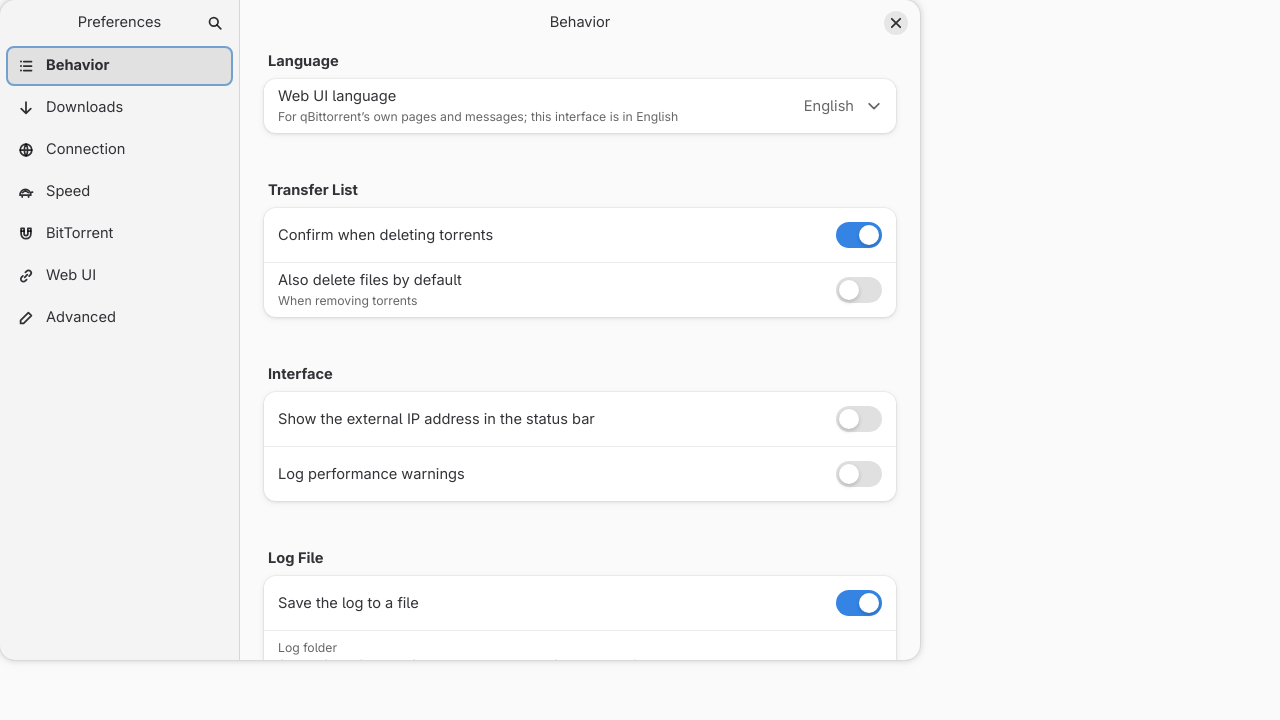
it: PreferencesDialog › searches every page, groups results by page, and says when nothing matches
Check: the element "Transfer List" is shown, box [264, 181, 896, 317]
Step 1. Click the button named "Search Preferences" → (215, 23), box [198, 6, 232, 40]
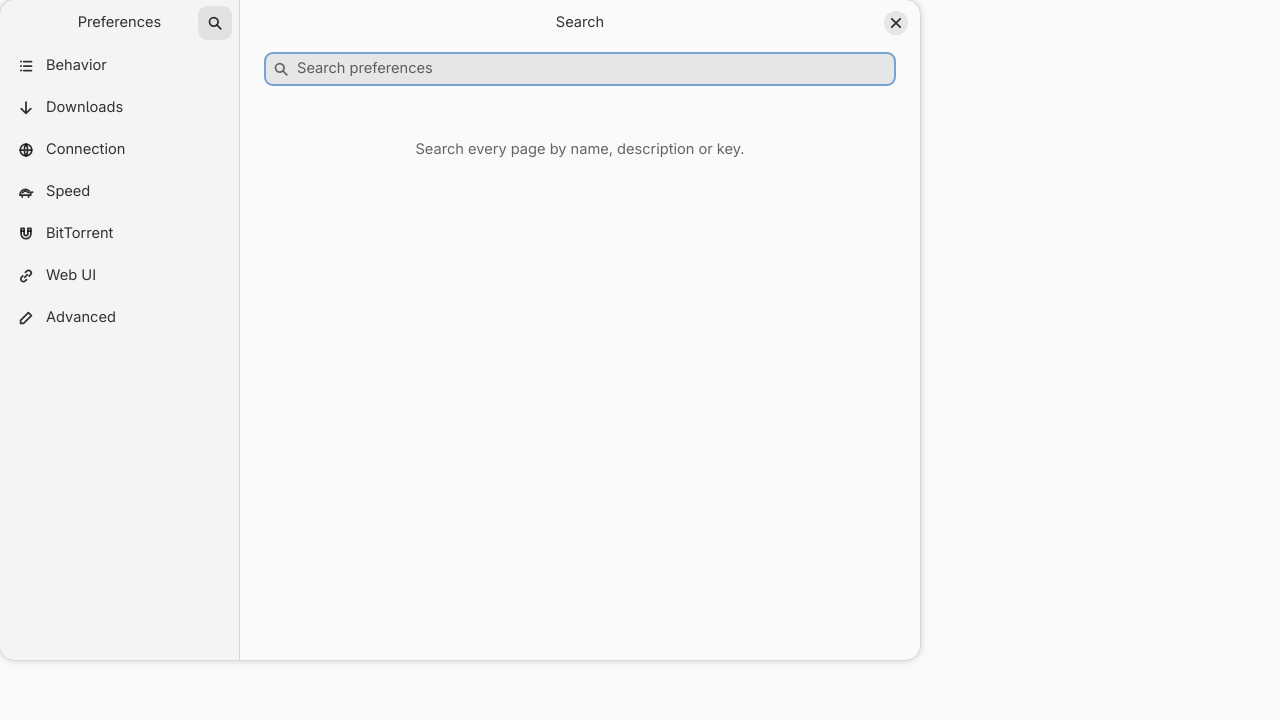
Step 2. Type "port forward" into the search field labelled "Search preferences" → (591, 69), box [295, 58, 887, 80]
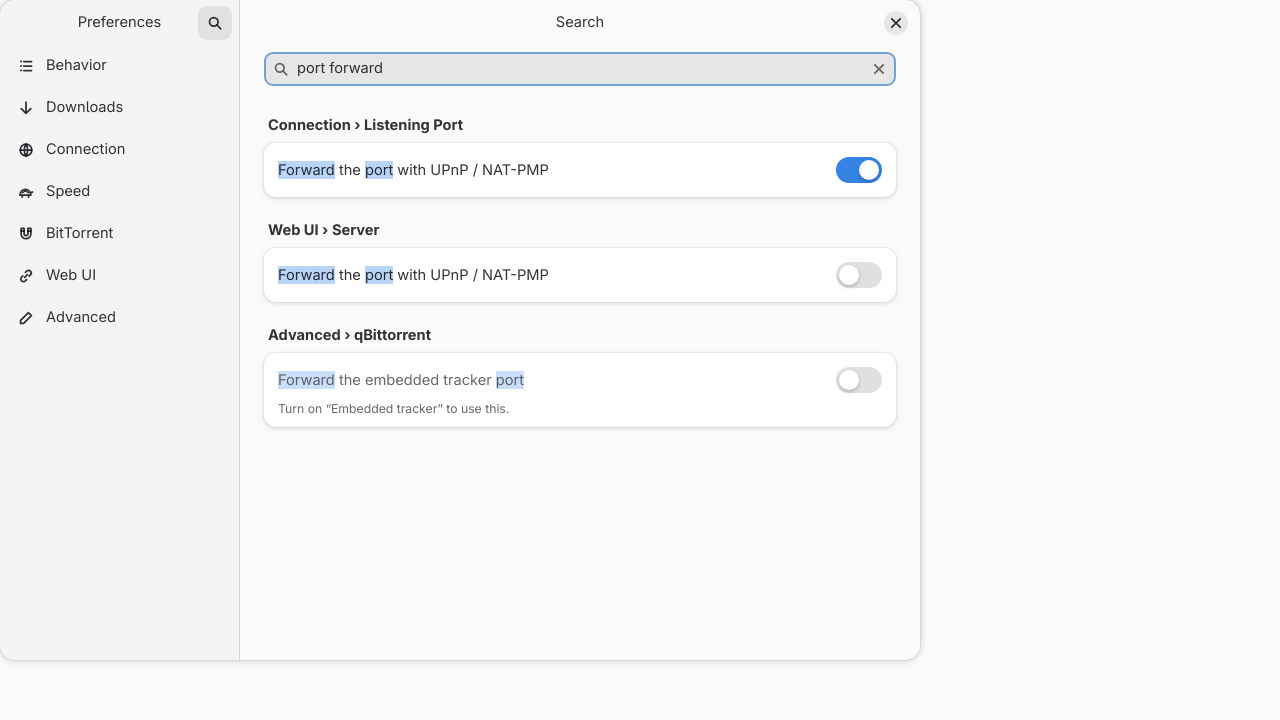
Step 3. Clear the search field named "Search preferences" → (580, 69), box [295, 58, 865, 80]
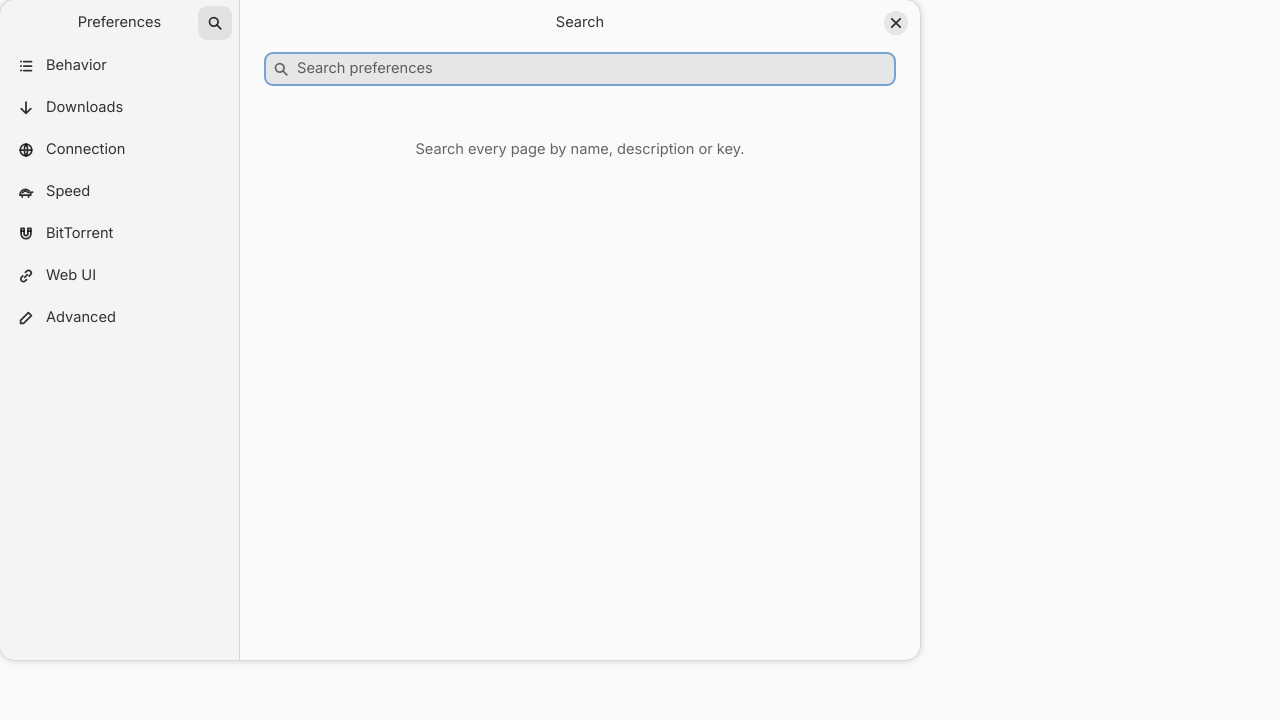
Step 4. Type "incomplete torrents folder" into the search field labelled "Search preferences" → (591, 69), box [295, 58, 887, 80]
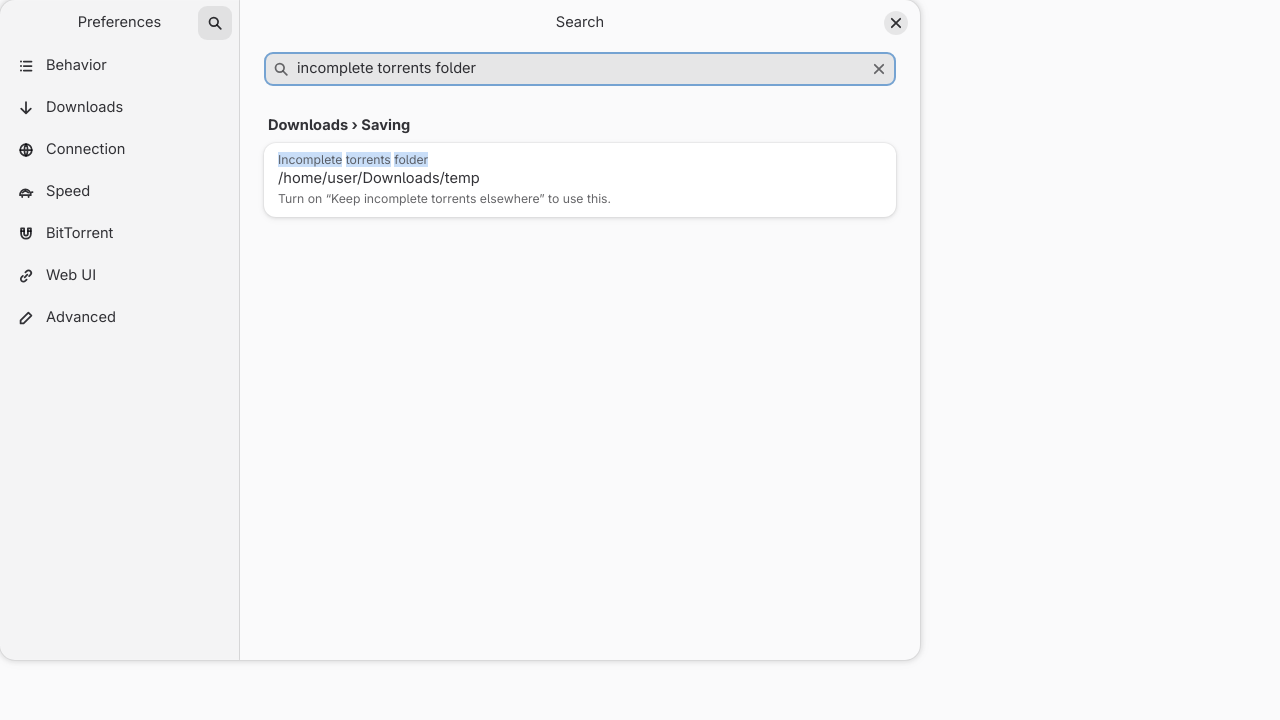
Check: the text "Turn on “Keep incomplete torrents elsewhere” to use this." is shown, box [278, 191, 611, 206]
Step 5. Clear the search field named "Search preferences" → (580, 69), box [295, 58, 865, 80]
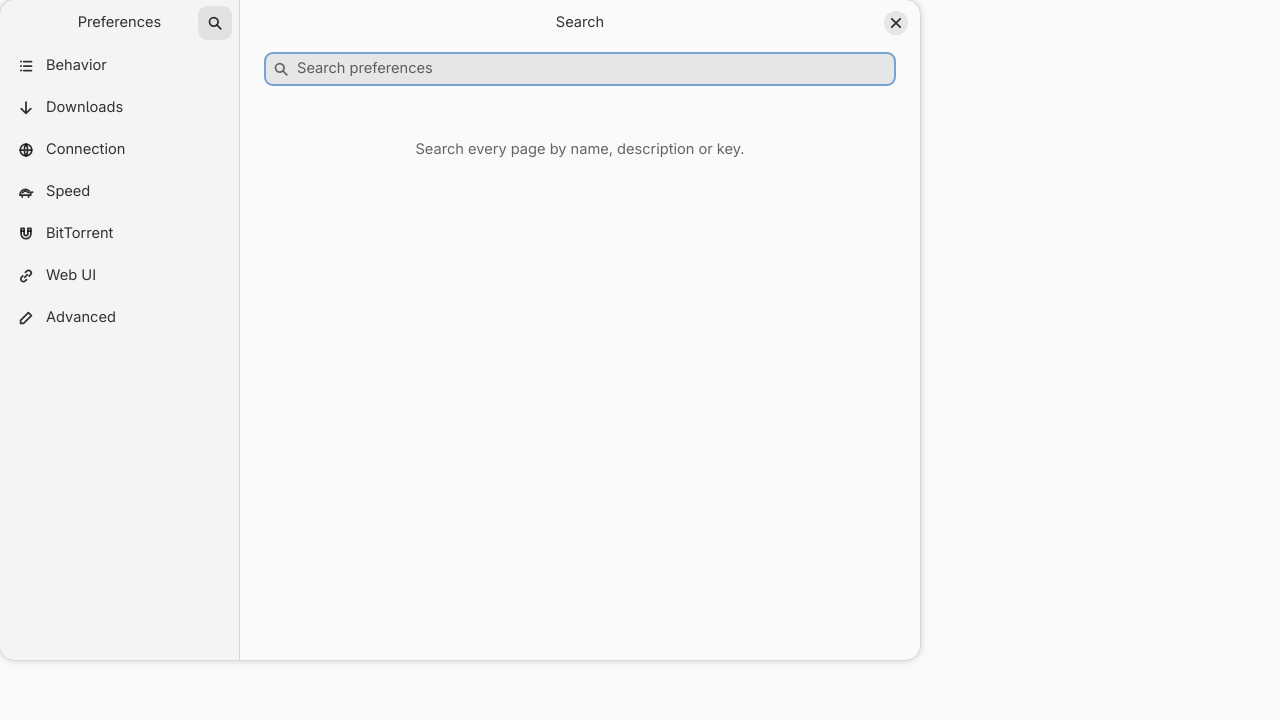
Step 6. Type "zzzz" into the search field labelled "Search preferences" → (591, 69), box [295, 58, 887, 80]
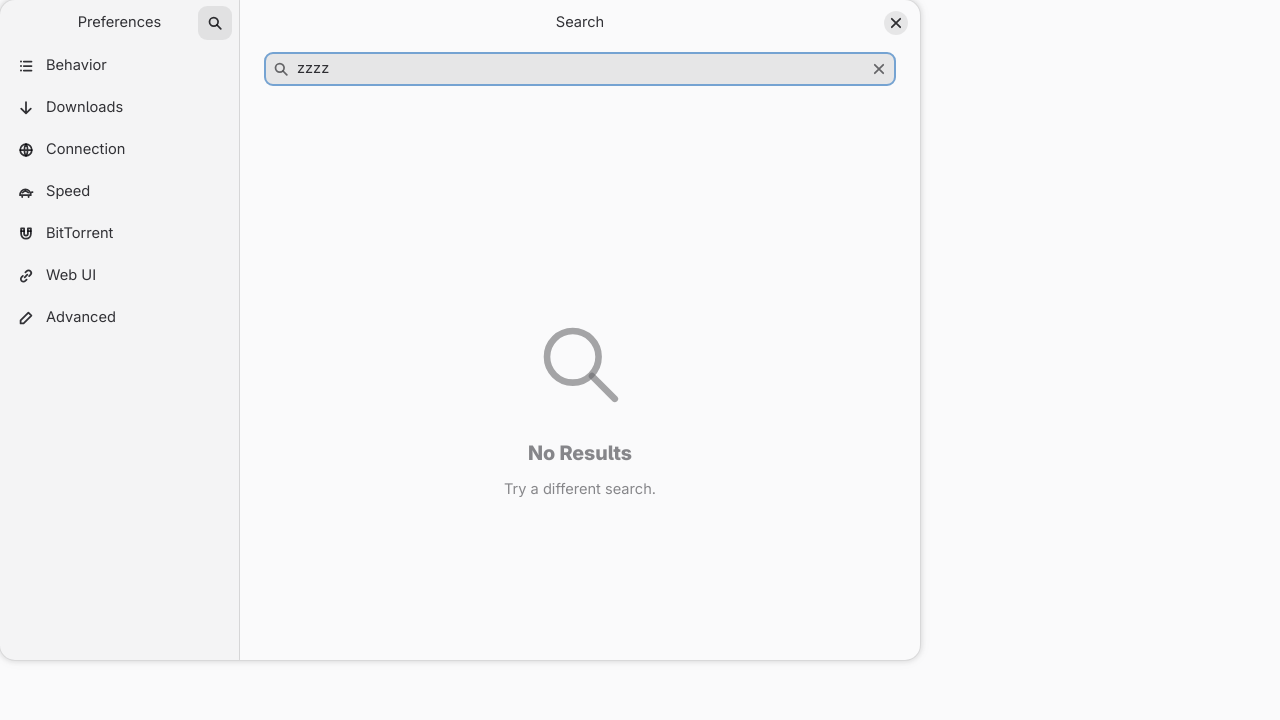
Check: the heading "No Results" is shown, box [528, 441, 632, 465]
